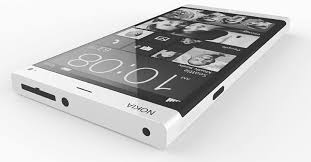nokia: (7, 1, 301, 155)
